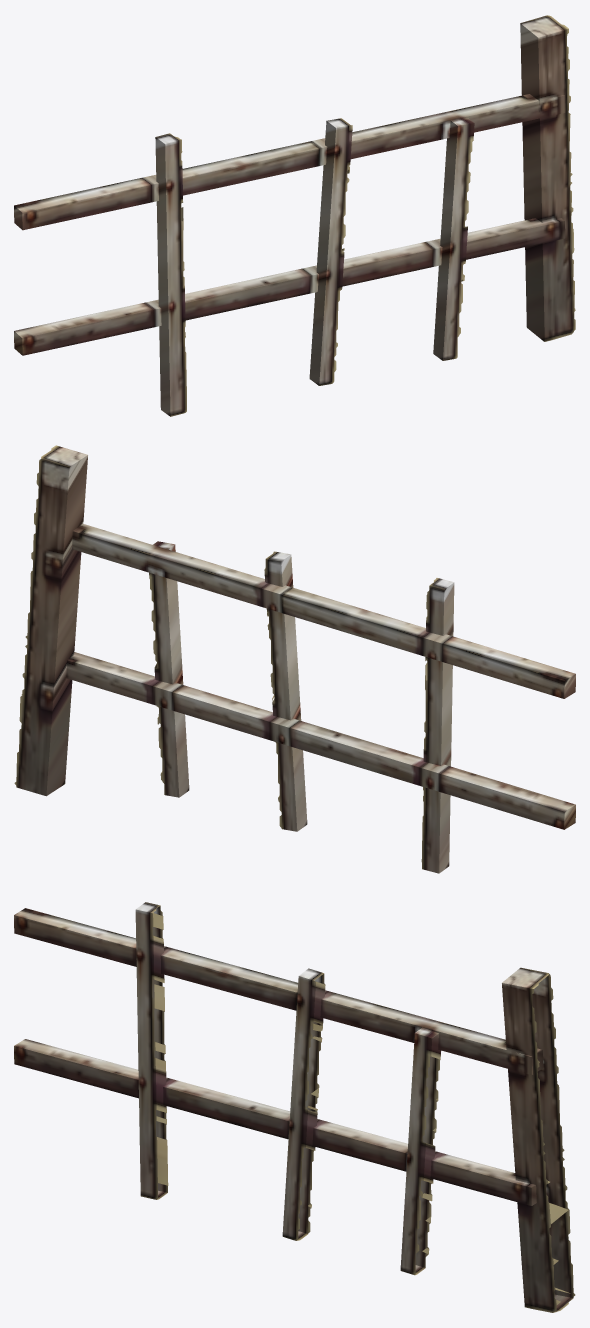
Rendered from fence_18.glb.
The picture shows the model from 3 angles, top to bottom: view 1: azimuth 30°, elevation 25°; view 2: azimuth 150°, elevation 25°; view 3: azimuth 330°, elevation 25°; orthographic projection. The views are drawn at different scales.
Parts seen in each view (by area): view 1: fence_18_game; view 2: fence_18_game; view 3: fence_18_game.
Part boxes in pixels (bbox=[...]): fence_18_game: bbox=[14, 15, 575, 416]; fence_18_game: bbox=[14, 445, 575, 873]; fence_18_game: bbox=[14, 902, 575, 1312].
Bounding box in the file's own units: 2.24 × 1.26 × 0.2541.
1 material, 1 textured.
